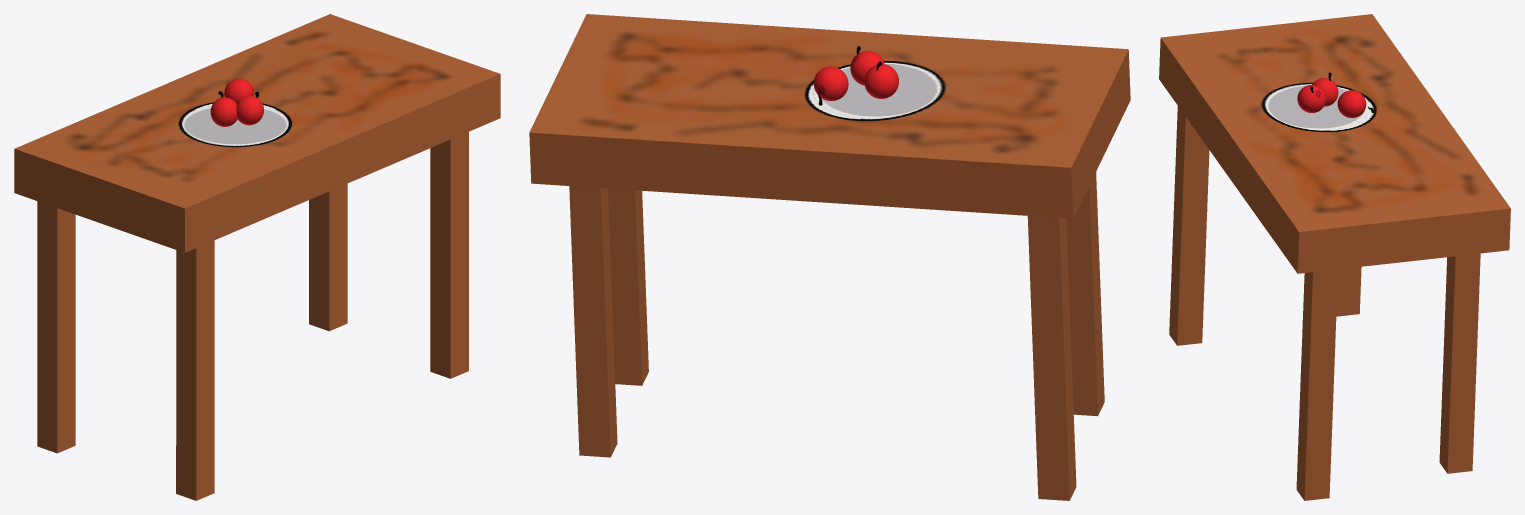
File: aaaaa.fbx
3 views of the same model, side by side, from view 1: azimuth 30°, elevation 25°; view 2: azimuth 150°, elevation 25°; view 3: azimuth 270°, elevation 25° (orthographic). The views are drawn at different scales.
Parts seen in each view (by area): view 1: root (×7); view 2: root (×8); view 3: root (×8).
Part boxes in pixels (x1,y1,x2,y2): root (×7): [14, 14, 500, 500]; root (×8): [529, 14, 1130, 500]; root (×8): [1159, 14, 1510, 500].
Size of the model in its own units: 0.54 by 0.3777 by 0.3791.
6 materials, 4 textured.
